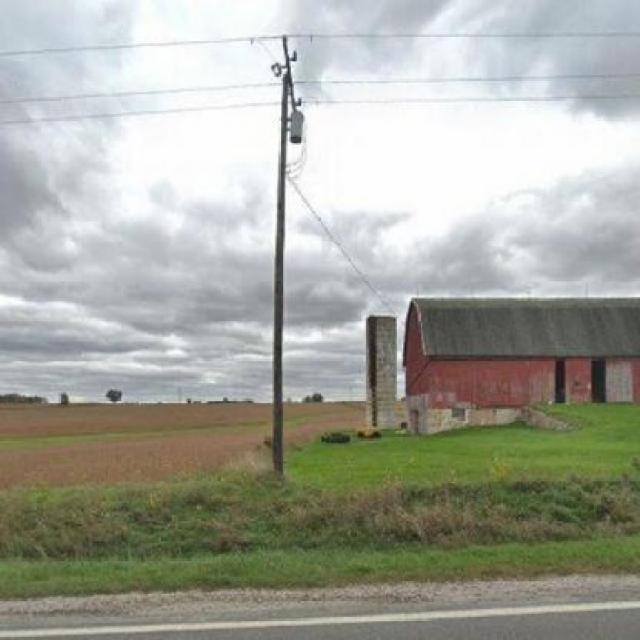pole: (258, 33, 318, 464)
